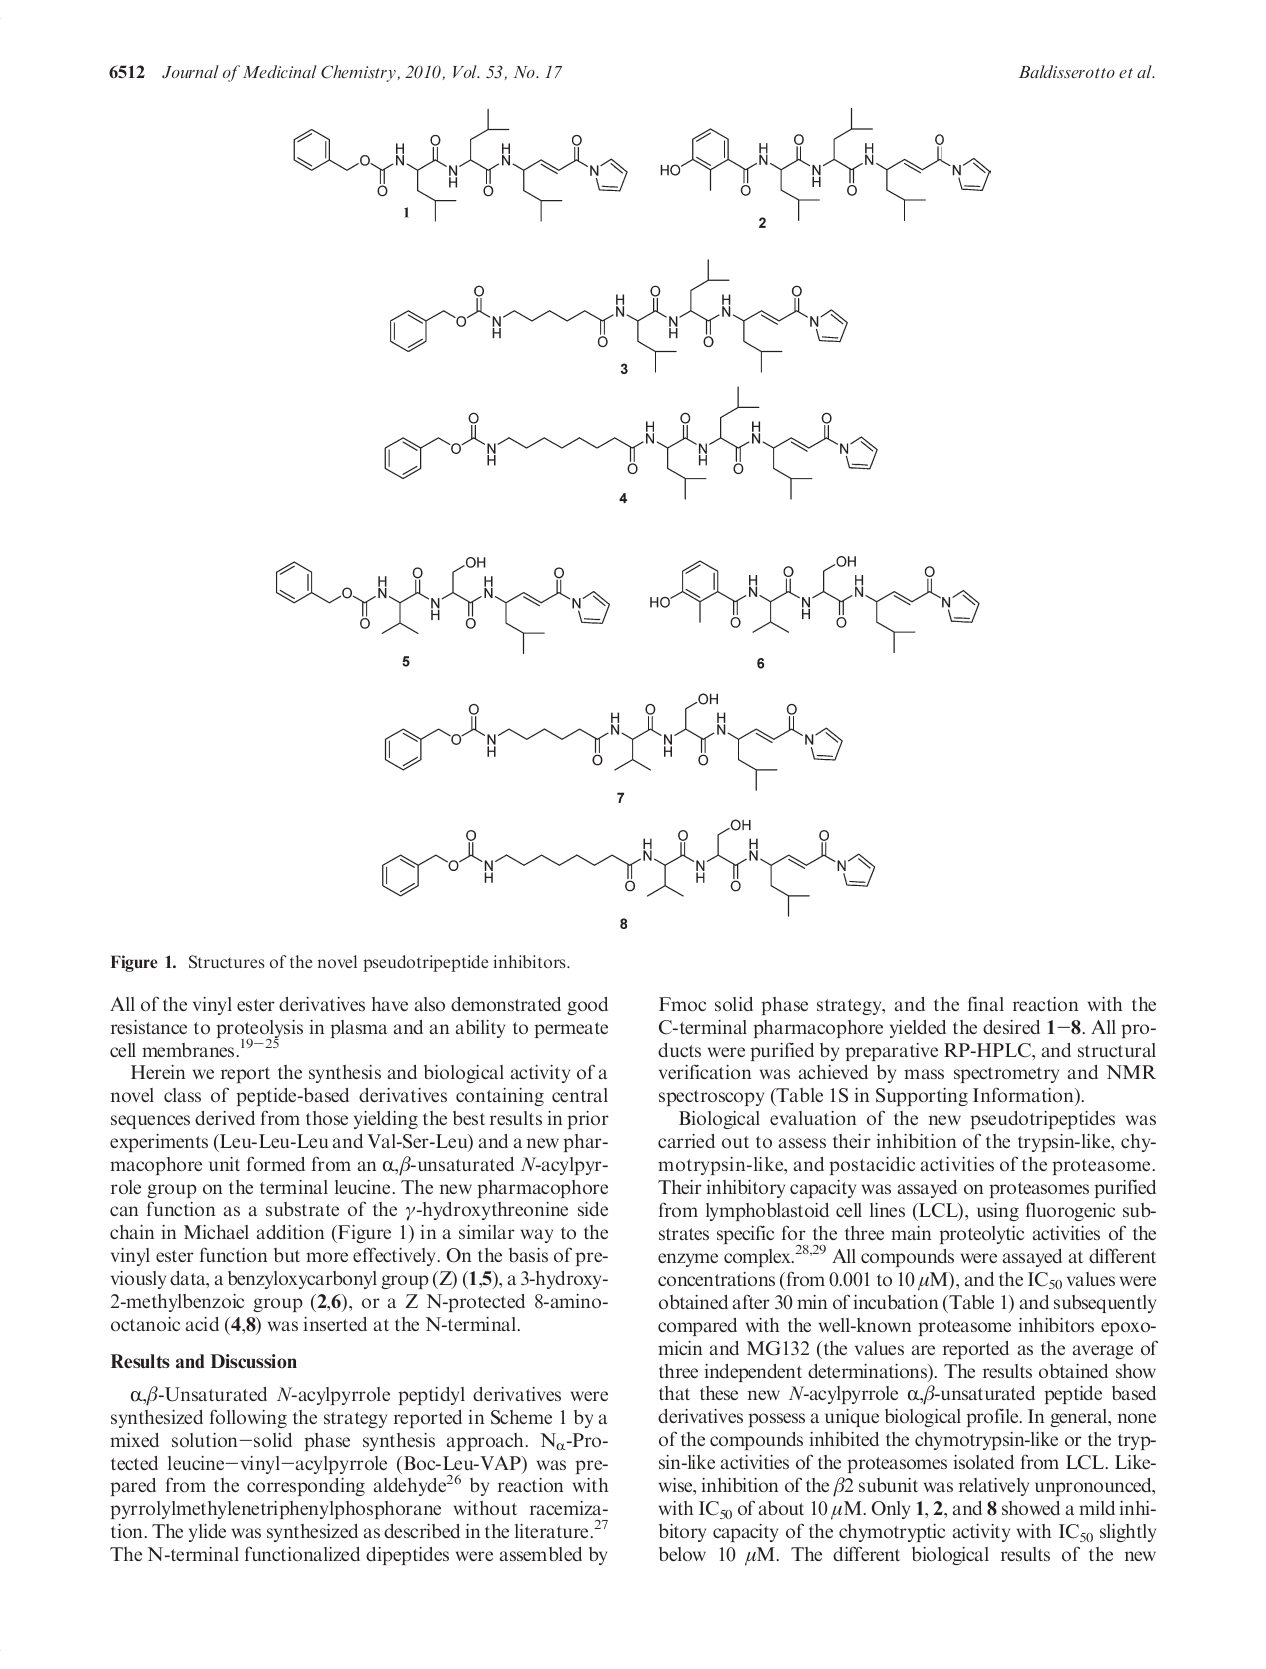exist_molecular: (372, 394, 883, 508), (380, 257, 859, 376), (364, 688, 851, 795), (370, 817, 878, 919), (285, 100, 632, 231), (652, 100, 999, 222), (644, 547, 983, 657), (266, 547, 616, 653)
